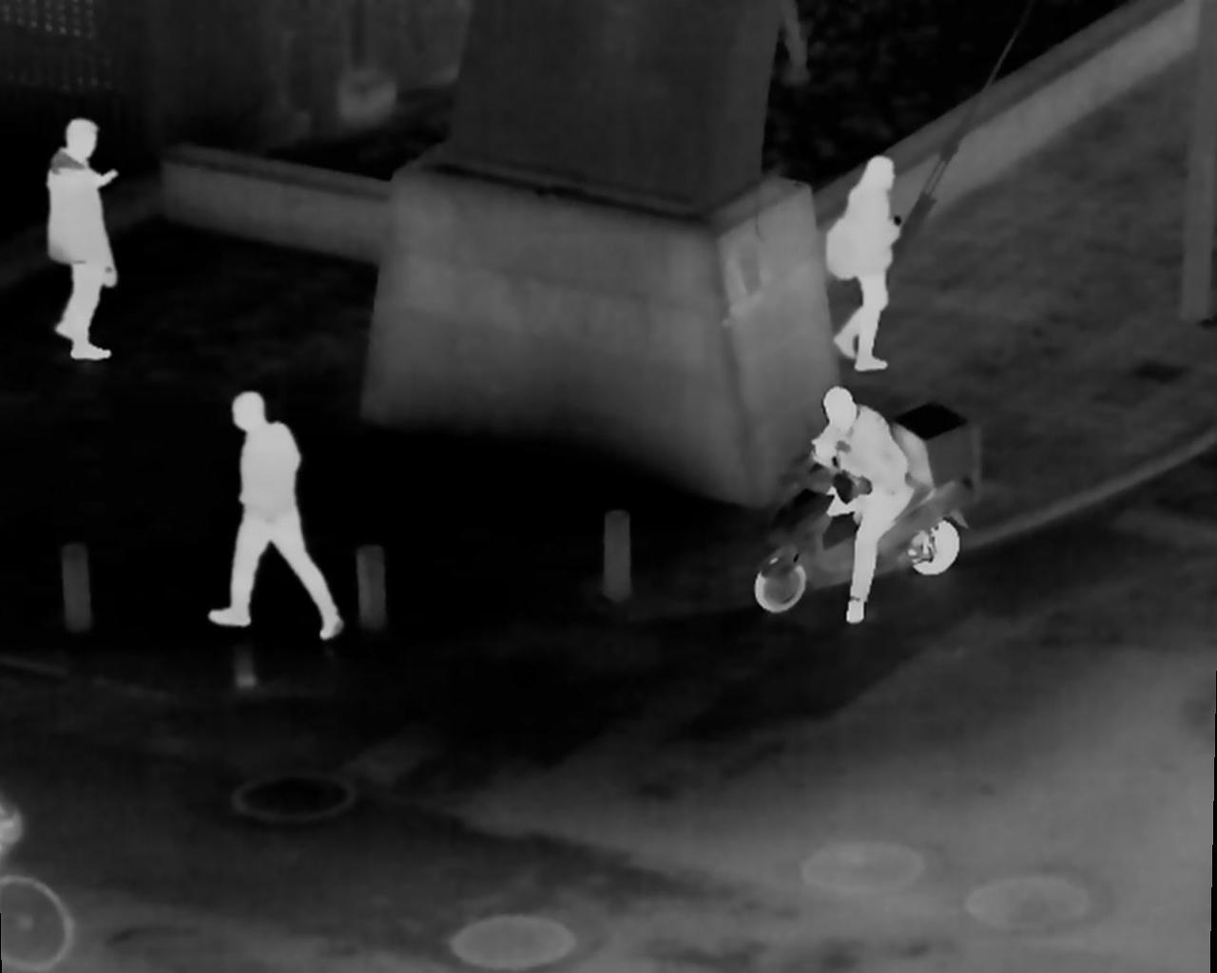person: (210, 385, 336, 635), (810, 374, 920, 613), (46, 112, 130, 370), (832, 148, 915, 378)
